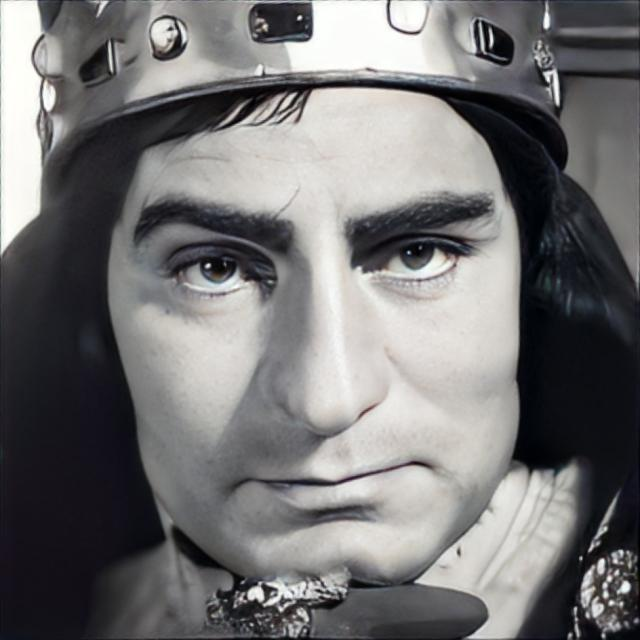anger: (107, 92, 526, 592)
